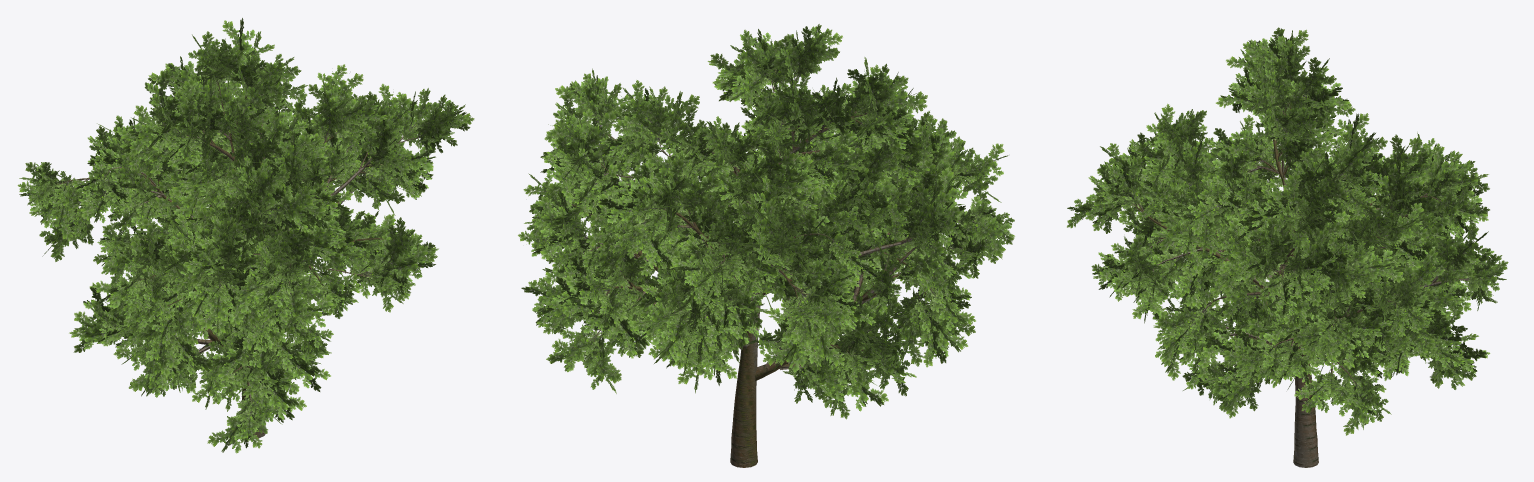
The model's file is tree_large009.fbx.
3 views of the same model, side by side, from view 1: azimuth 30°, elevation 25°; view 2: azimuth 150°, elevation 25°; view 3: azimuth 270°, elevation 25° (orthographic). The views are drawn at different scales.
Parts seen in each view (by area): view 1: Tree EZTree1.Large009; view 2: Tree EZTree1.Large009; view 3: Tree EZTree1.Large009.
Boxes of the visible parts, left/top/right/bottom form: Tree EZTree1.Large009: left=17, top=18, right=474, bottom=453; Tree EZTree1.Large009: left=518, top=24, right=1014, bottom=467; Tree EZTree1.Large009: left=1067, top=27, right=1508, bottom=467.
Bounding box in the file's own units: 10774 × 10677 × 10877.
